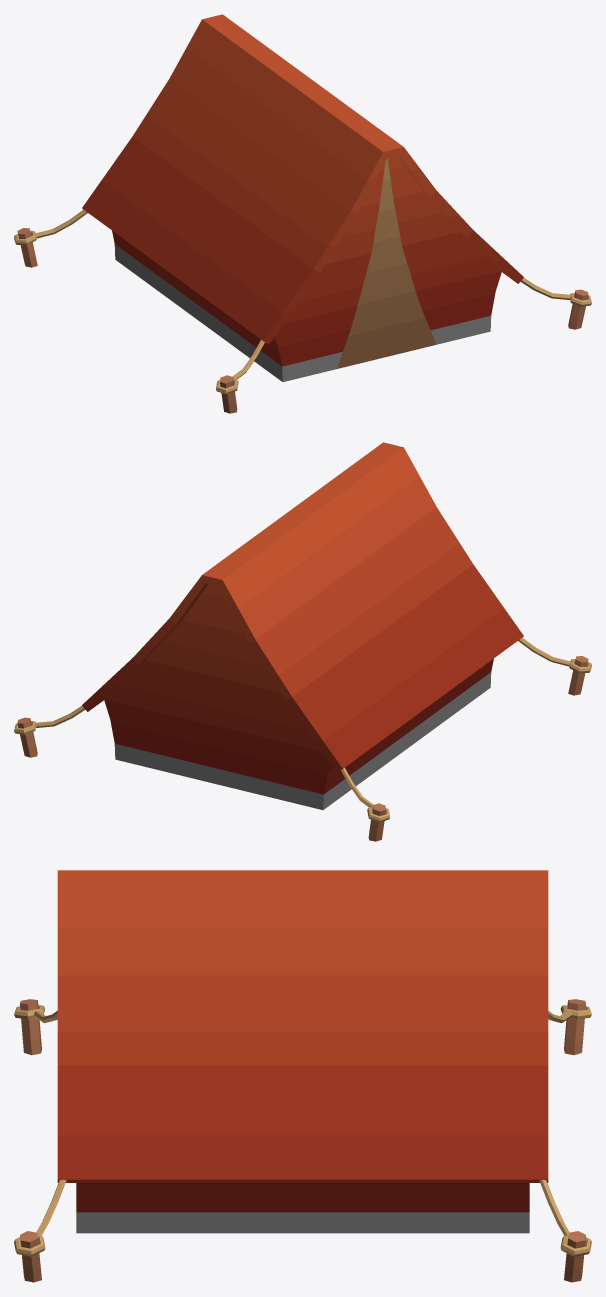
The model's file is camp_tent_red.glb.
3 views of the same model, one above another, from view 1: azimuth 30°, elevation 25°; view 2: azimuth 150°, elevation 25°; view 3: azimuth 270°, elevation 25° (orthographic). The views are drawn at different scales.
Parts seen in each view (by area): view 1: camp_tent_red; view 2: camp_tent_red; view 3: camp_tent_red.
Boxes of the visible parts, x1,y1,x2,y2 form: camp_tent_red: (14,14,591,413); camp_tent_red: (14,442,591,841); camp_tent_red: (14,870,591,1282).
Bounding box in the file's own units: 4.06 × 2.2 × 4.01.
1 material, 1 textured.
